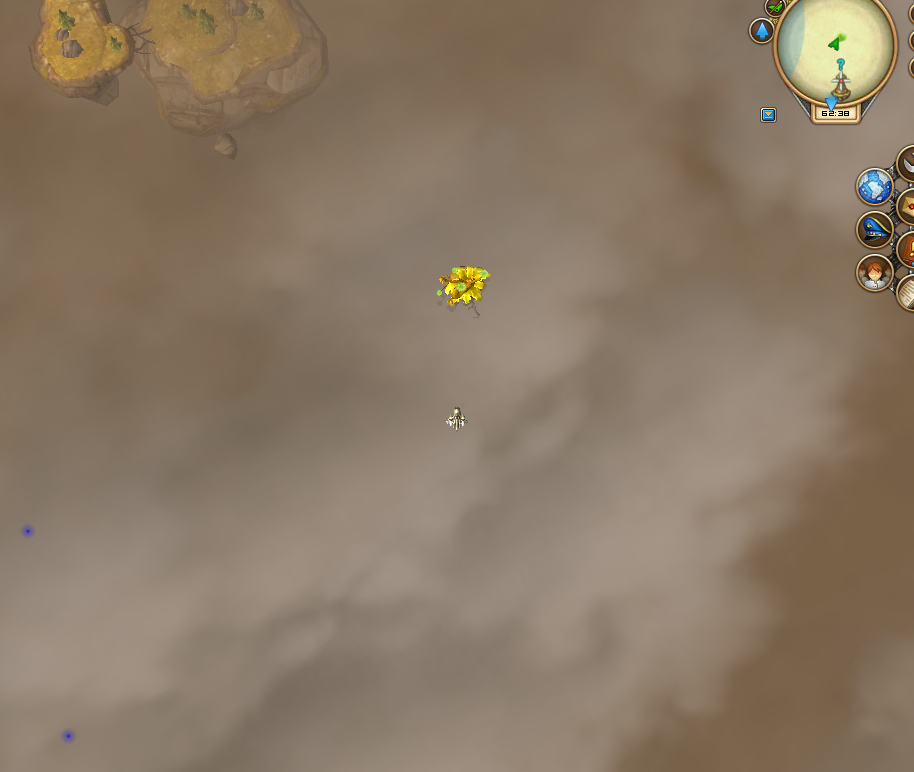dandelion-full: (426, 254, 495, 324)
